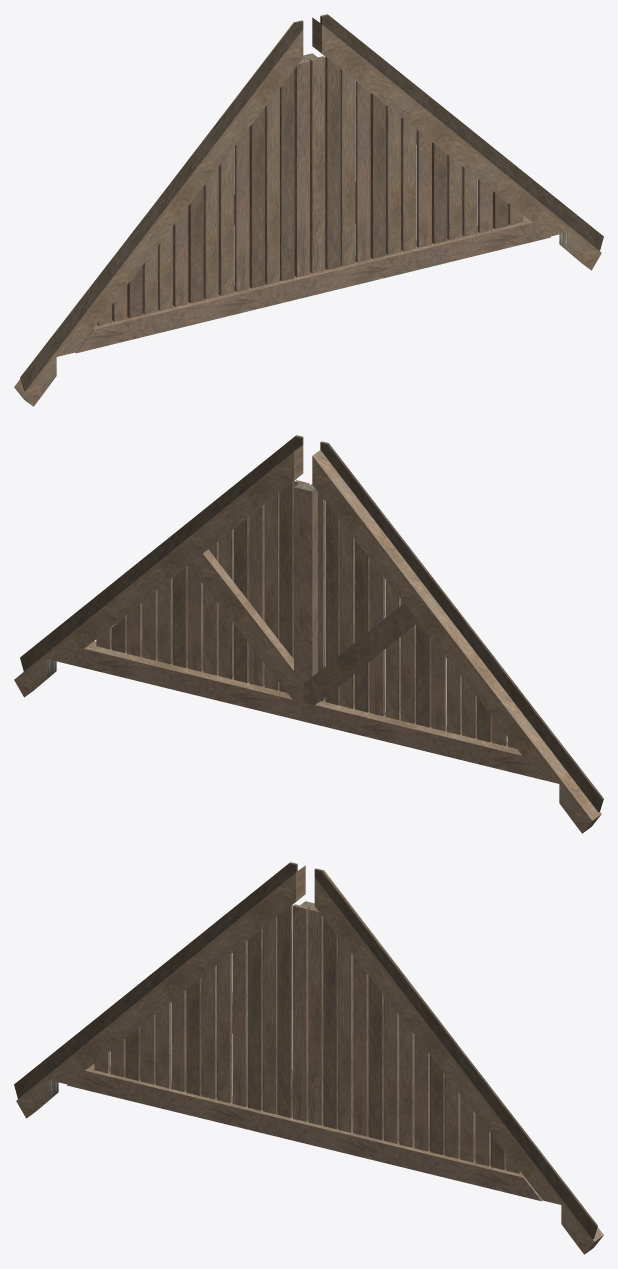
The model's file is RafterWallA.fbx.
3 views of the same model, one above another, from view 1: azimuth 30°, elevation 25°; view 2: azimuth 150°, elevation 25°; view 3: azimuth 330°, elevation 25° (orthographic).
Visible parts, largest first — view 1: RafterWallA; view 2: RafterWallA; view 3: RafterWallA.
Boxes of the visible parts, box(x1,y1,x2,y2) form: RafterWallA: box(14, 14, 603, 406); RafterWallA: box(14, 435, 603, 833); RafterWallA: box(14, 862, 603, 1254).
Size of the model in its own units: 954 by 500 by 30.09.
